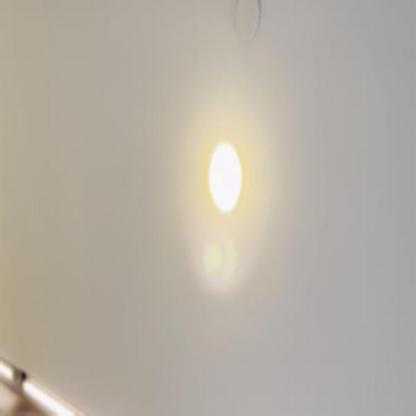light_on: (199, 125, 249, 220)
